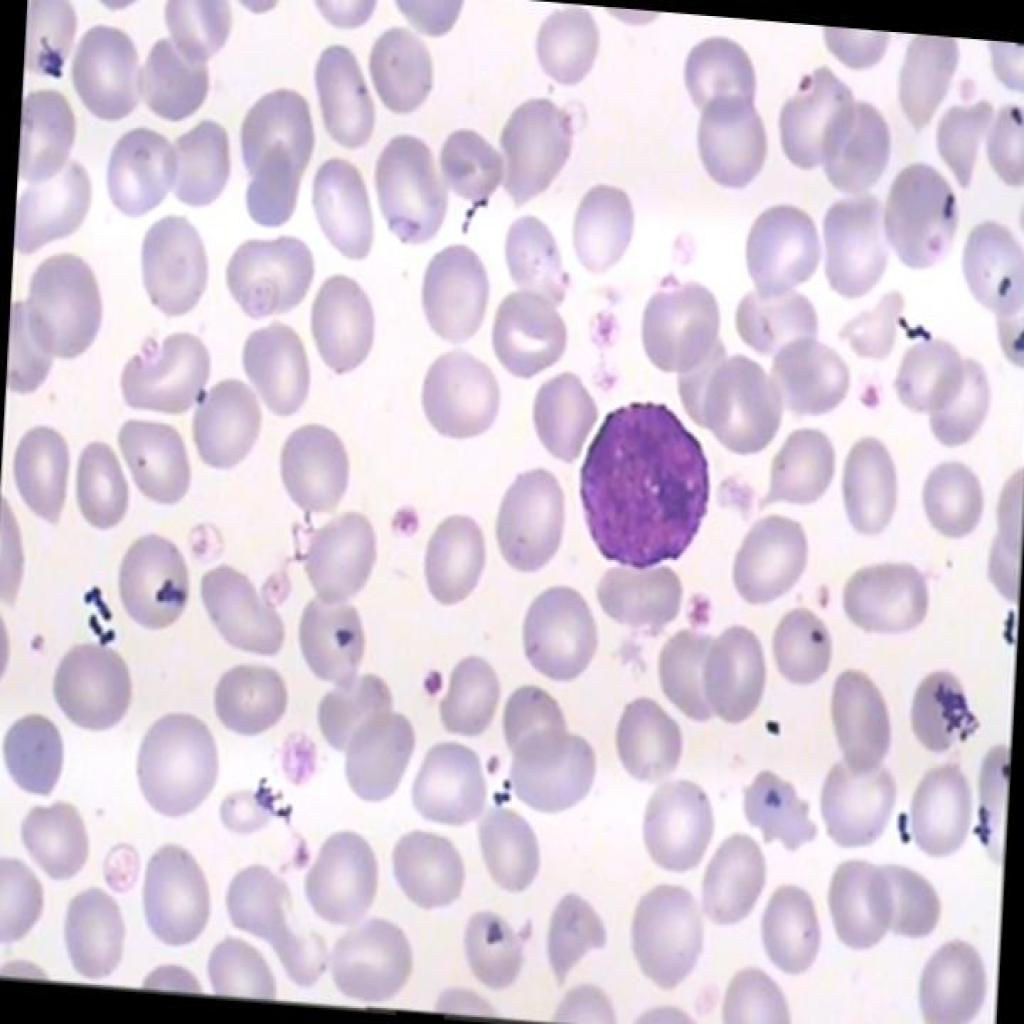Basofil: (558, 384, 721, 581)
Platelet: (384, 492, 424, 544), (677, 582, 710, 636), (411, 656, 445, 706), (853, 372, 886, 418), (277, 830, 313, 871)
